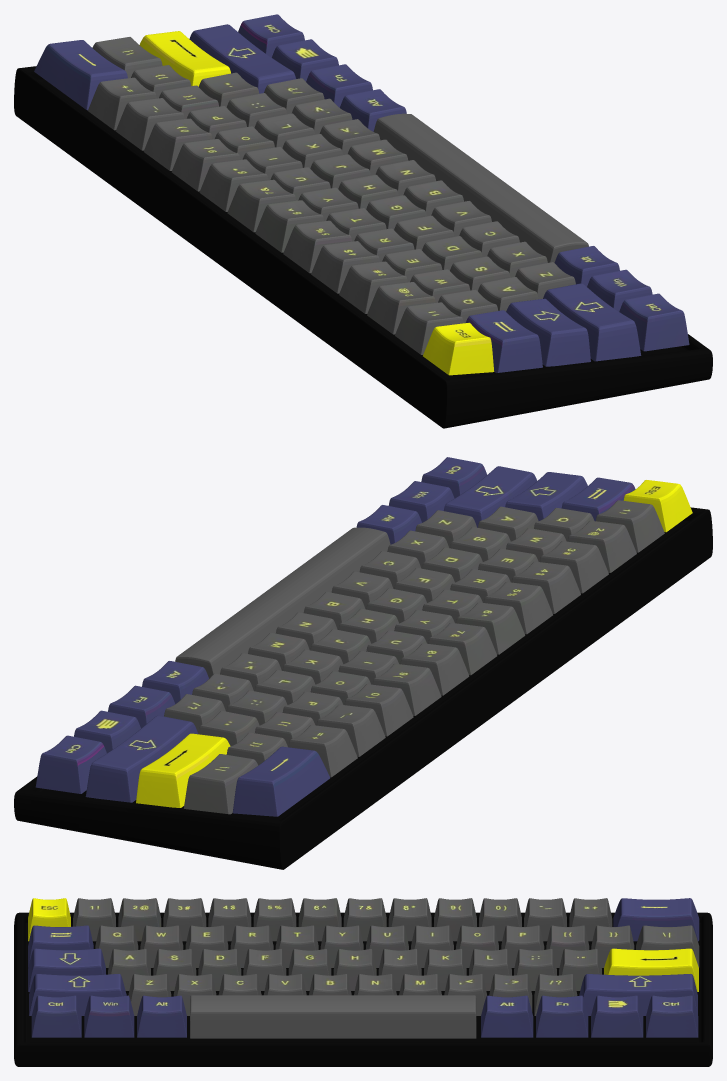
The model's file is 60_Keyboard_1_nightrunner-transformed.glb.
3 views of the same model, one above another, from view 1: azimuth 30°, elevation 25°; view 2: azimuth 150°, elevation 25°; view 3: azimuth 270°, elevation 25° (orthographic). The views are drawn at different scales.
Parts seen in each view (by area): view 1: Plane; view 2: Plane; view 3: Plane.
Part boxes in pixels (x1,y1,x2,y2): Plane: (14,14,712,428); Plane: (14,457,712,869); Plane: (14,898,712,1066).
Size of the model in its own units: 4.25 by 1.38 by 11.86.
2 materials, 1 textured.
